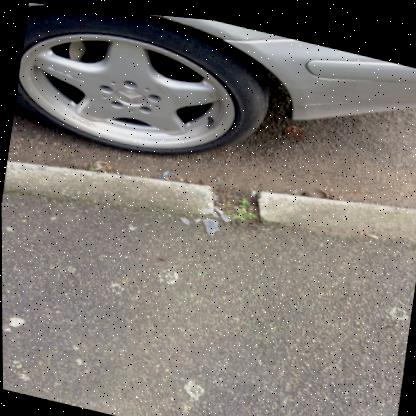Plastic: (201, 213, 218, 229)
Waste: (214, 202, 228, 212), (179, 212, 188, 220), (197, 203, 211, 208), (210, 207, 217, 212), (221, 212, 229, 215), (193, 213, 200, 216)
